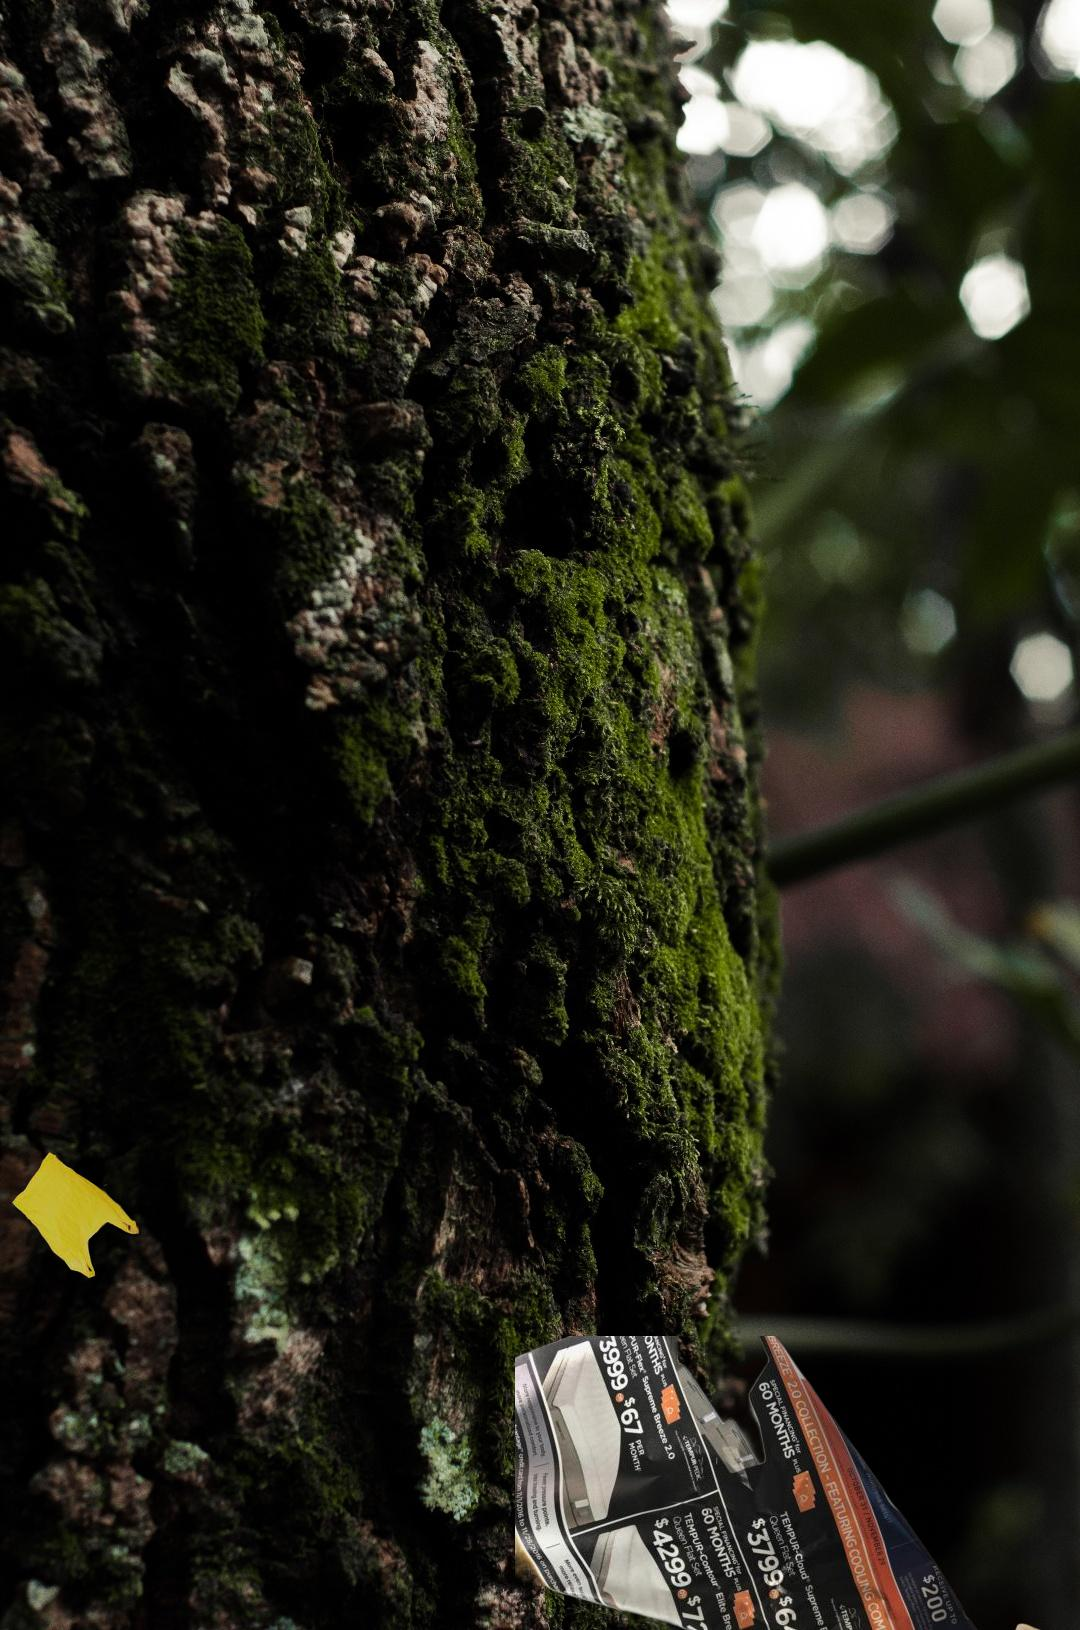paper: (515, 1336, 994, 1630)
paper-bag: (799, 1620, 1078, 1630)
plastic-bag: (11, 1117, 142, 1279)
